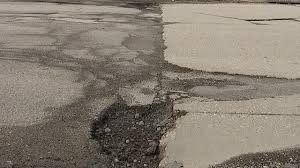pothole: (90, 84, 192, 168)
